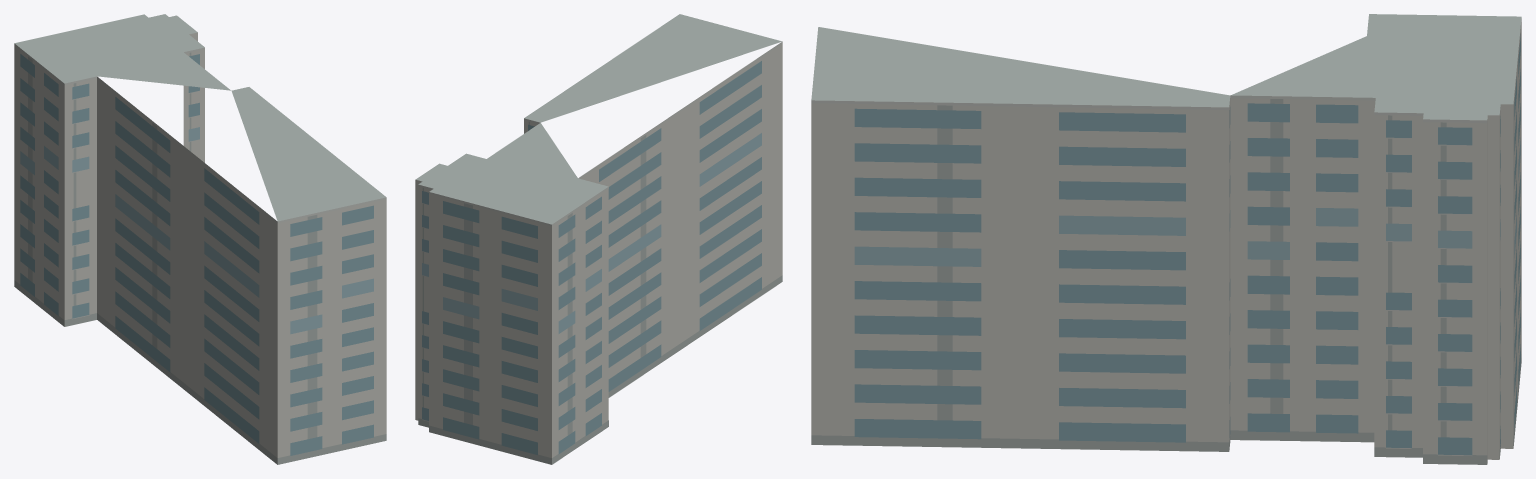
The model's file is residential-086ccccb-8c9d-405d-9ef9-f40377c15089.glb.
3 renders of one model, left to right at view 1: azimuth 30°, elevation 25°; view 2: azimuth 150°, elevation 25°; view 3: azimuth 270°, elevation 25°, orthographic. The views are drawn at different scales.
Visible parts, largest first — view 1: residential-086ccccb-8c9d-405d-9ef9-f40377c15089.tmp; view 2: residential-086ccccb-8c9d-405d-9ef9-f40377c15089.tmp; view 3: residential-086ccccb-8c9d-405d-9ef9-f40377c15089.tmp.
Boxes of the visible parts, x1,y1,x2,y2 form: residential-086ccccb-8c9d-405d-9ef9-f40377c15089.tmp: (14, 14, 386, 464); residential-086ccccb-8c9d-405d-9ef9-f40377c15089.tmp: (415, 14, 782, 464); residential-086ccccb-8c9d-405d-9ef9-f40377c15089.tmp: (811, 14, 1521, 464).
Bounding box in the file's own units: 19.89 × 30 × 56.07.
